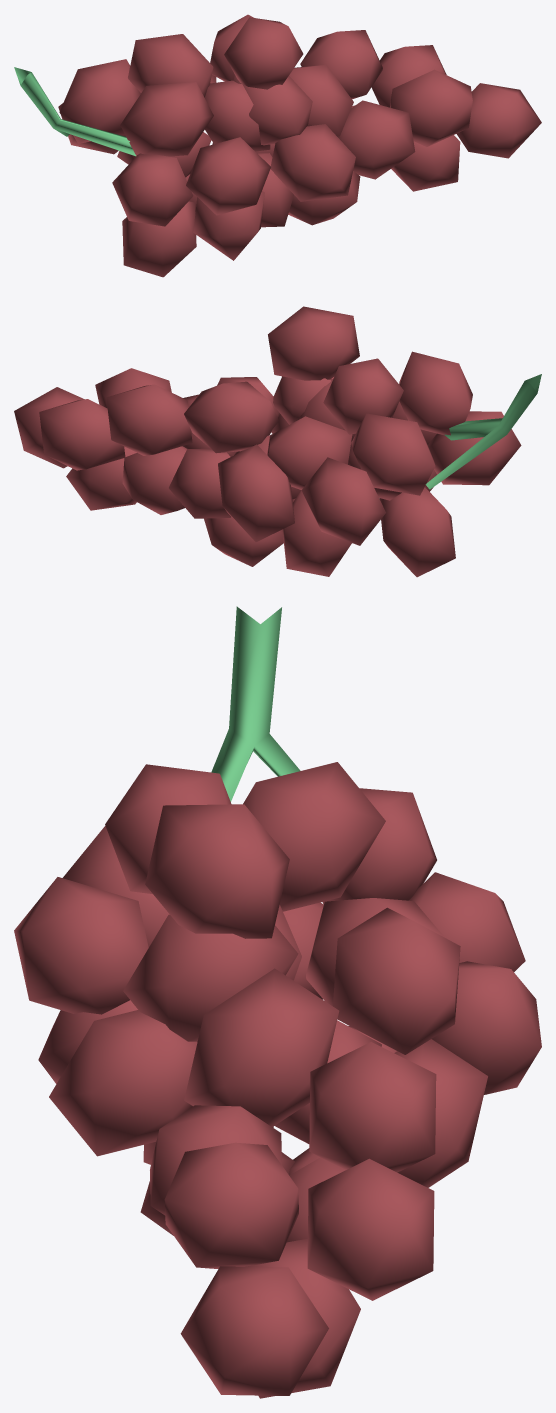
Rendered from SM_Grapes.fbx.
3 views of the same model, one above another, from view 1: azimuth 30°, elevation 25°; view 2: azimuth 150°, elevation 25°; view 3: azimuth 270°, elevation 25° (orthographic). The views are drawn at different scales.
Parts seen in each view (by area): view 1: Grapes.001; view 2: Grapes.001; view 3: Grapes.001.
Part boxes in pixels (x1,y1,x2,y2): Grapes.001: [14, 14, 541, 277]; Grapes.001: [14, 306, 541, 577]; Grapes.001: [14, 606, 541, 1398].
Bounding box in the file's own units: 33.95 × 14.45 × 16.5.
